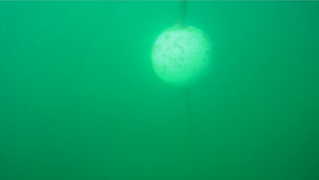buoy: (150, 23, 217, 88)
